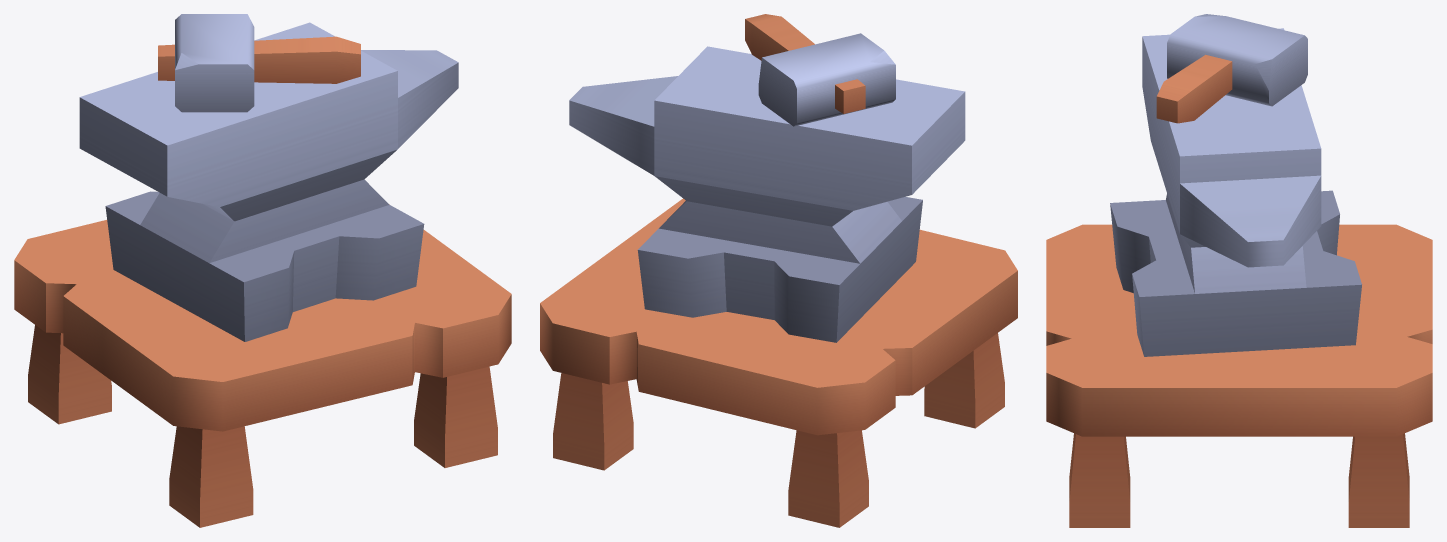
Rendered from cc0-workbench-anvil-lod0.glb.
3 views of the same model, side by side, from view 1: azimuth 30°, elevation 25°; view 2: azimuth 150°, elevation 25°; view 3: azimuth 270°, elevation 25° (orthographic). The views are drawn at different scales.
Visible parts, largest first — view 1: part_0; view 2: part_0; view 3: part_0.
Boxes of the visible parts, x1,y1,x2,y2 form: part_0: (14,14,511,527); part_0: (540,14,1017,527); part_0: (1046,14,1432,527).
Bounding box in the file's own units: 0.3227 × 0.3358 × 0.2957.
1 material, 1 textured.
